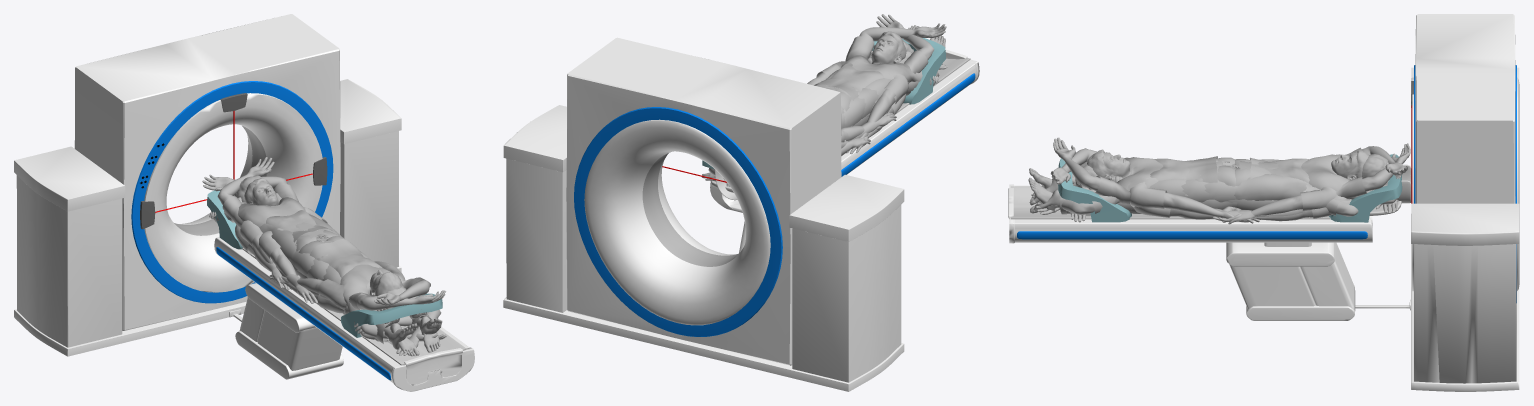
The model's file is Dave.glb.
3 renders of one model, left to right at view 1: azimuth 30°, elevation 25°; view 2: azimuth 150°, elevation 25°; view 3: azimuth 270°, elevation 25°, orthographic. The views are drawn at different scales.
Visible parts, largest first — view 1: SM_MRI_tilt.001, SM_MRI_baseGRP_MRI, SM_MRI_bed_upDown.001, SM_MRI_bed_inOut.001, body_geo1, body_geo1.001, SM_head_arm_rest3, scrubShirt_geo1, body_geo8, scrubShirt_geo9, body_geo3, scrubShirt_geo6 (+9 smaller); view 2: SM_MRI_tilt.001, SM_MRI_baseGRP_MRI, SM_MRI_bed_upDown.001, body_geo1.001, scrubShirt_geo1.001, SM_head_arm_rest3, scrubShirt_geo5, scrubShirt_geo6, body_geo6, SM_MRI_bed_inOut.001, body_geo3, scrubShirt_geo4; view 3: SM_MRI_baseGRP_MRI, SM_MRI_tilt.001, SM_MRI_bed_upDown.001, body_geo1.001, body_geo1, SM_MRI_bed_inOut.001, SM_head_arm_rest3, SM_head_arm_rest2, scrubShirt_geo1.001, scrubShirt_geo1, scrubShirt_geo6, scrubShirt_geo9 (+11 smaller).
Part boxes in pixels (x1=…): SM_MRI_tilt.001: x1=74, y1=14, x2=340, y2=330; SM_MRI_baseGRP_MRI: x1=14, y1=79, x2=401, y2=379; SM_MRI_bed_upDown.001: x1=214, y1=237, x2=474, y2=391; SM_MRI_bed_inOut.001: x1=242, y1=248, x2=466, y2=385; body_geo1: x1=202, y1=157, x2=426, y2=327; body_geo1.001: x1=356, y1=270, x2=445, y2=310; SM_head_arm_rest3: x1=341, y1=293, x2=442, y2=337; scrubShirt_geo1: x1=222, y1=184, x2=327, y2=245; body_geo8: x1=270, y1=247, x2=440, y2=356; scrubShirt_geo9: x1=216, y1=197, x2=305, y2=226; body_geo3: x1=274, y1=263, x2=442, y2=349; scrubShirt_geo6: x1=313, y1=239, x2=405, y2=305; SM_MRI_tilt.001: x1=566, y1=37, x2=841, y2=365; SM_MRI_baseGRP_MRI: x1=503, y1=105, x2=904, y2=391; SM_MRI_bed_upDown.001: x1=710, y1=59, x2=979, y2=212; body_geo1.001: x1=859, y1=14, x2=946, y2=63; scrubShirt_geo1.001: x1=826, y1=36, x2=928, y2=90; SM_head_arm_rest3: x1=872, y1=38, x2=945, y2=104; scrubShirt_geo5: x1=830, y1=58, x2=931, y2=88; scrubShirt_geo6: x1=814, y1=61, x2=908, y2=101; body_geo6: x1=725, y1=72, x2=895, y2=185; SM_MRI_bed_inOut.001: x1=895, y1=49, x2=970, y2=114; body_geo3: x1=846, y1=25, x2=945, y2=141; scrubShirt_geo4: x1=817, y1=55, x2=908, y2=103; SM_MRI_baseGRP_MRI: x1=1226, y1=67, x2=1519, y2=391; SM_MRI_tilt.001: x1=1411, y1=14, x2=1519, y2=302; SM_MRI_bed_upDown.001: x1=1009, y1=184, x2=1372, y2=246; body_geo1.001: x1=1050, y1=137, x2=1401, y2=204; body_geo1: x1=1072, y1=143, x2=1410, y2=191; SM_MRI_bed_inOut.001: x1=1008, y1=186, x2=1330, y2=219; SM_head_arm_rest3: x1=1058, y1=158, x2=1131, y2=222; SM_head_arm_rest2: x1=1329, y1=154, x2=1402, y2=222; scrubShirt_geo1.001: x1=1092, y1=150, x2=1221, y2=204; scrubShirt_geo1: x1=1239, y1=147, x2=1366, y2=198; scrubShirt_geo6: x1=1129, y1=157, x2=1217, y2=208; scrubShirt_geo9: x1=1301, y1=154, x2=1378, y2=205.
Bounding box in the file's own units: 2.3 × 1.53 × 2.95.
Materials: 1 (1 with a texture image).
